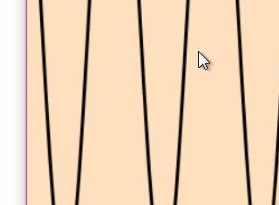cursor: (196, 49, 211, 70)
